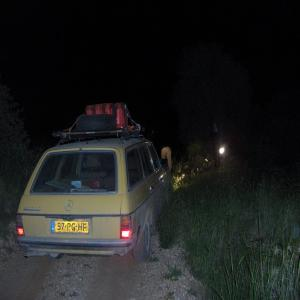Vehicle-registration-plate: (52, 222, 91, 234)
